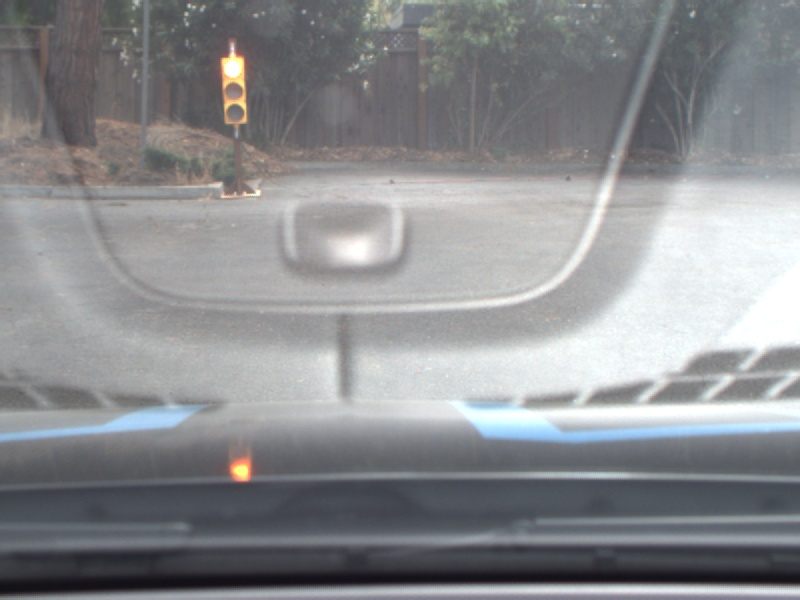red: (215, 51, 252, 124)
